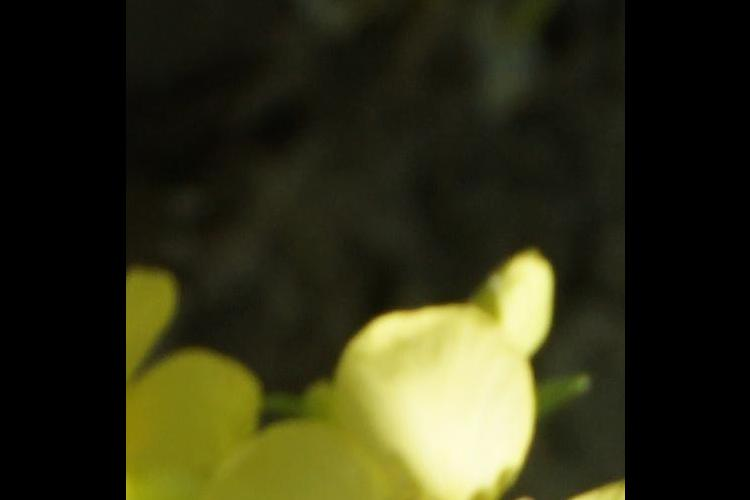yellow: (215, 318, 546, 500)
